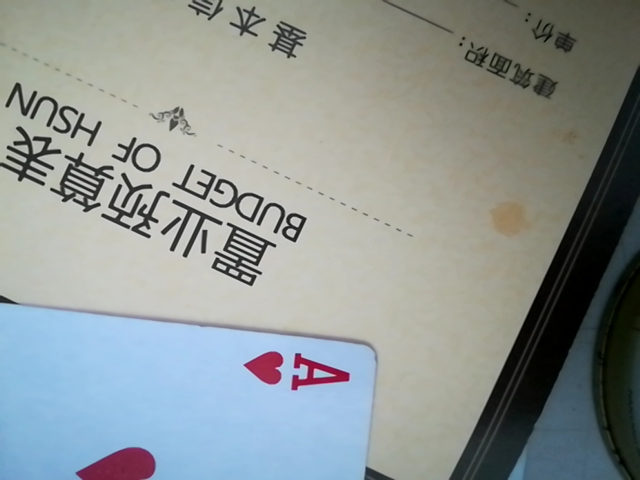hx a: (1, 294, 387, 480)
